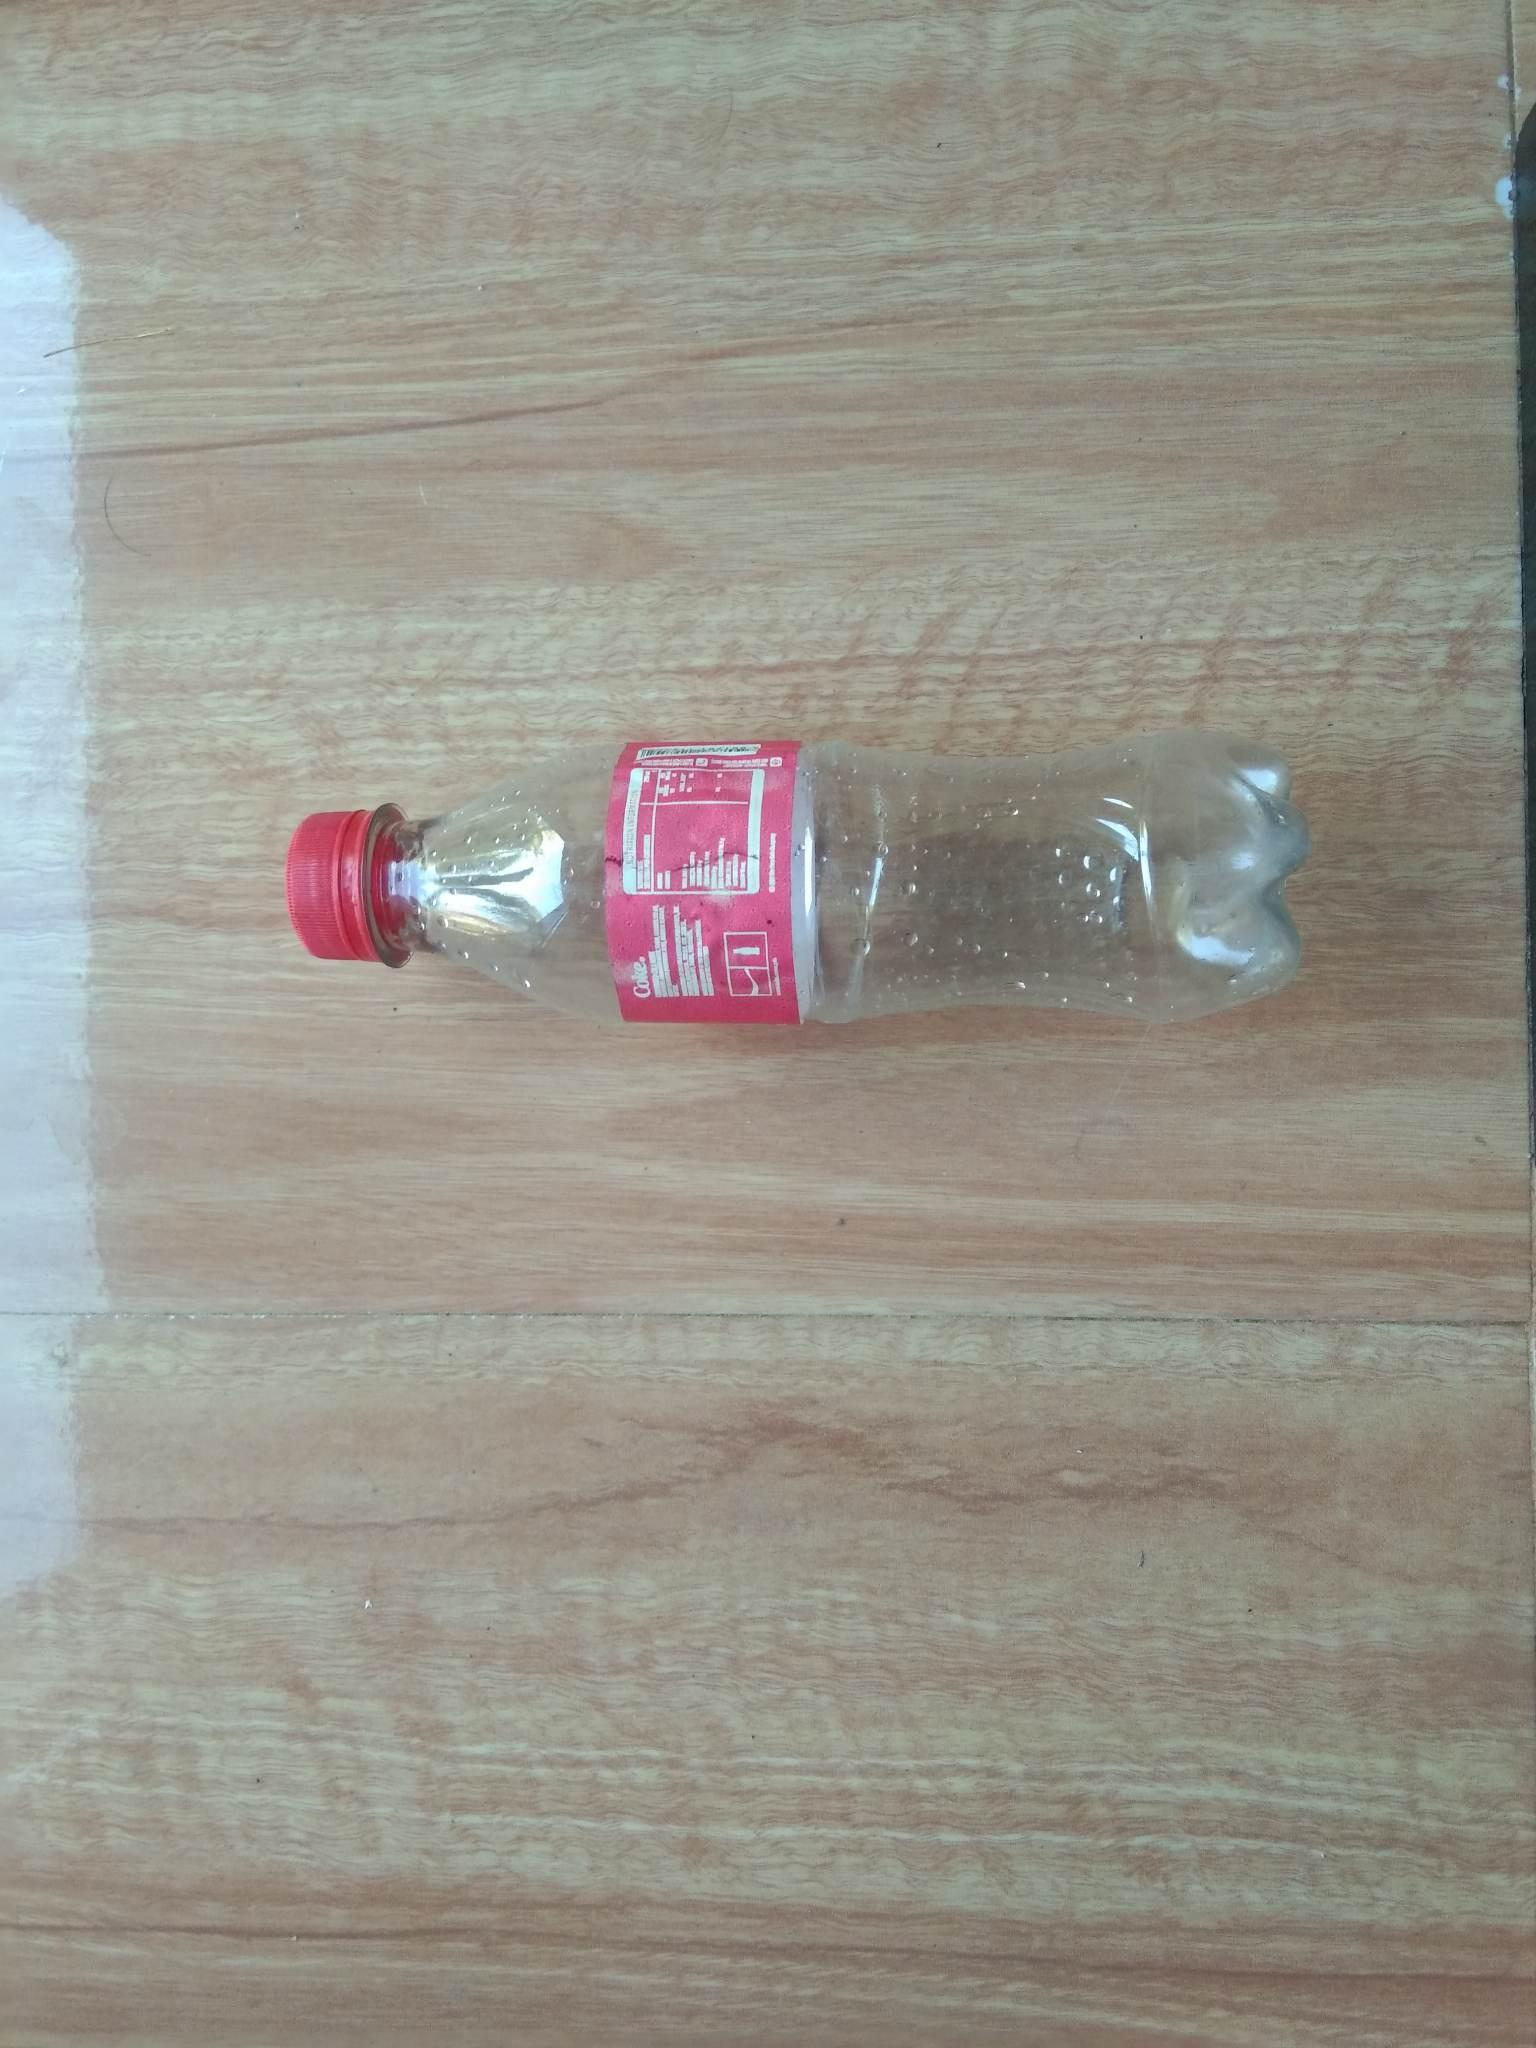plastic: (182, 664, 1370, 1061)
